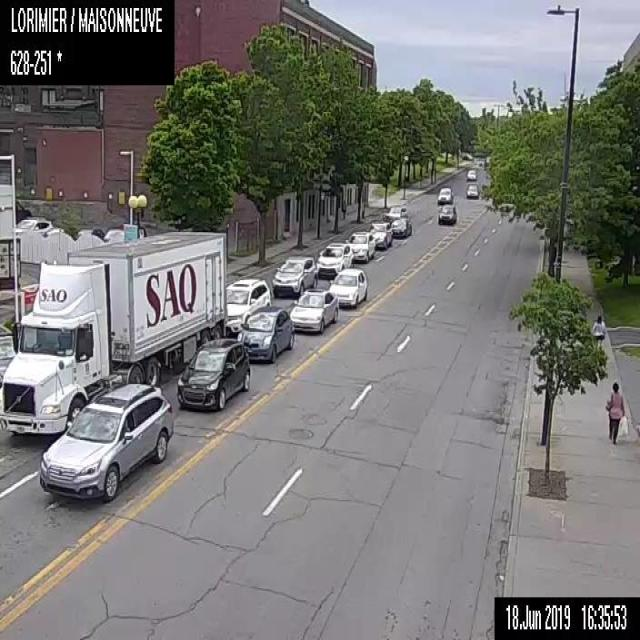pedestrian: (604, 380, 626, 444), (590, 312, 605, 347), (341, 198, 345, 218)
vehicle: (0, 230, 226, 432), (37, 384, 172, 500), (176, 337, 249, 408), (236, 306, 294, 362), (226, 277, 270, 334), (289, 288, 338, 332), (272, 255, 316, 297), (329, 267, 367, 307), (317, 240, 353, 275), (345, 230, 374, 261), (13, 217, 52, 234), (369, 221, 392, 248), (382, 203, 408, 220), (390, 217, 411, 237), (438, 204, 457, 224), (437, 187, 452, 203), (465, 182, 479, 199), (466, 169, 476, 180), (461, 151, 472, 160)
